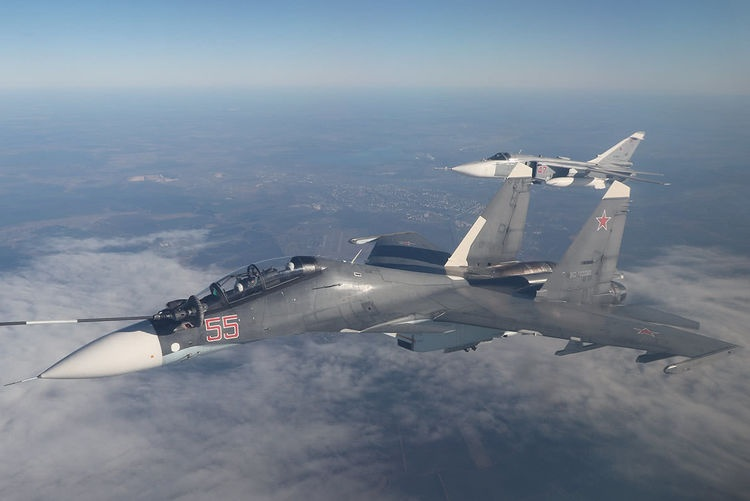airplane: (3, 123, 747, 397)
